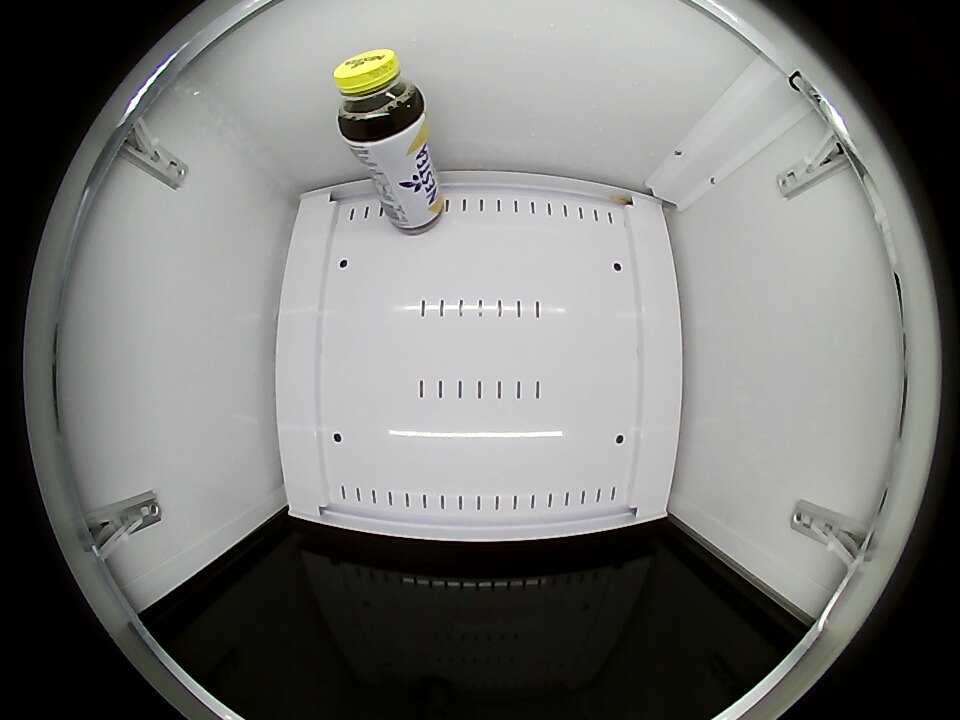chacui: (335, 48, 426, 146)
